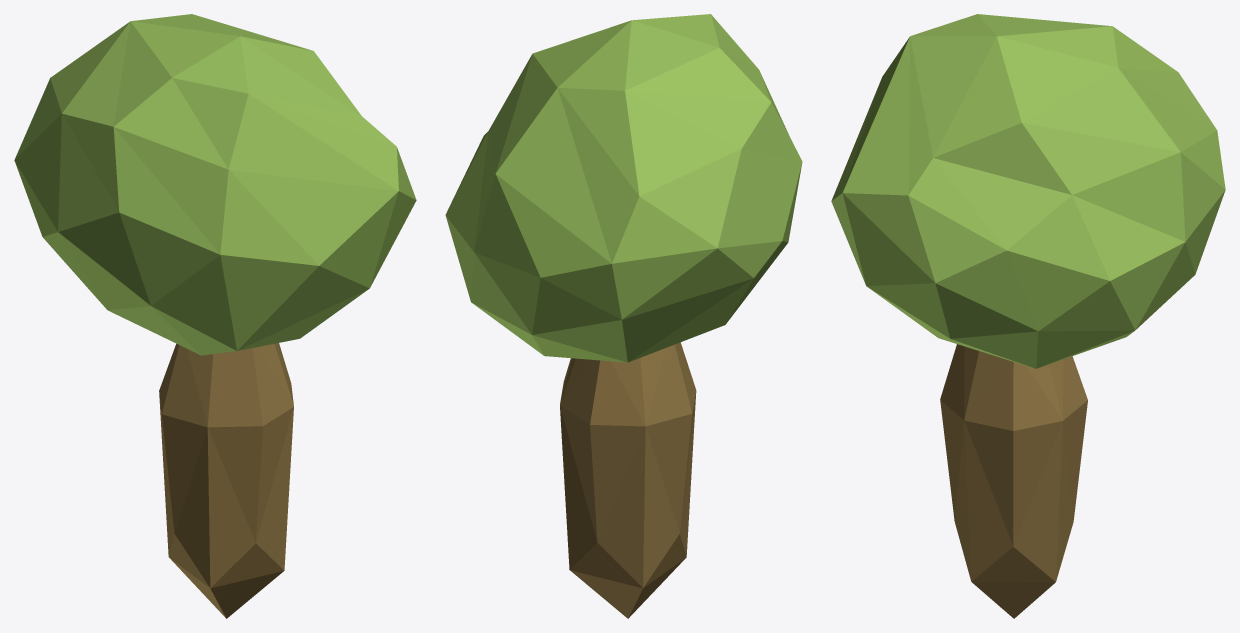
3 renders of one model, left to right at view 1: azimuth 30°, elevation 25°; view 2: azimuth 150°, elevation 25°; view 3: azimuth 270°, elevation 25°, orthographic.
Visible parts, largest first — view 1: OK; view 2: OK; view 3: OK.
Boxes of the visible parts, bbox=[...] form: OK: bbox=[14, 14, 416, 618]; OK: bbox=[445, 14, 802, 618]; OK: bbox=[831, 14, 1225, 618].
Size of the model in its own units: 1.2 by 1.32 by 2.17.
